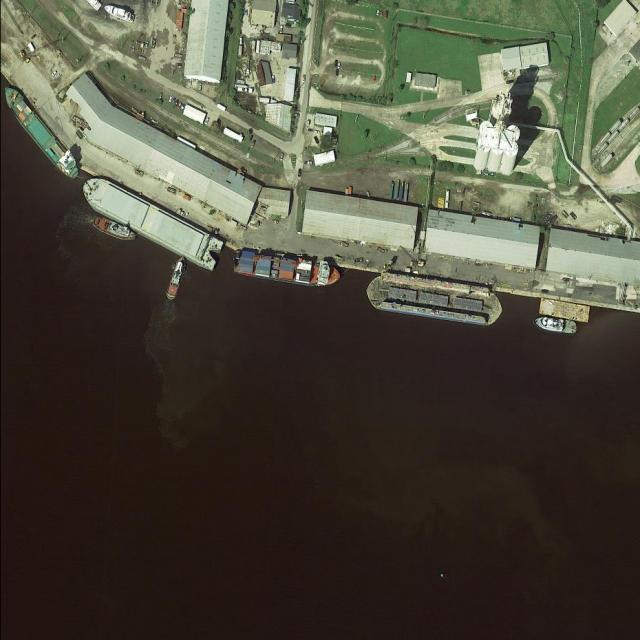Cargo: (1, 83, 85, 181)
Container Ship: (231, 242, 344, 292)
Hovercraft: (530, 314, 579, 336)
Other Ship: (89, 212, 140, 246), (162, 255, 189, 303)
RoRo: (73, 164, 234, 280)
